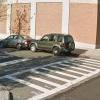Crosswalk: (9, 67, 100, 100)
